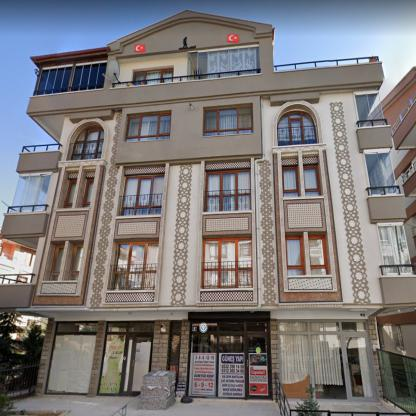door: (342, 334, 376, 400), (121, 333, 152, 394), (245, 334, 271, 398)
window: (277, 320, 367, 400), (98, 320, 155, 394), (46, 323, 97, 393), (203, 238, 252, 288), (35, 62, 105, 94), (198, 44, 260, 80), (111, 243, 158, 290), (204, 170, 251, 211), (120, 175, 164, 215), (378, 223, 412, 273), (364, 148, 398, 195), (10, 173, 50, 212), (204, 105, 252, 135), (278, 110, 318, 145), (125, 113, 170, 142), (353, 89, 384, 126), (71, 126, 104, 158), (309, 236, 328, 274), (286, 236, 304, 276), (282, 166, 299, 198), (304, 165, 321, 197), (48, 244, 63, 280), (68, 244, 82, 280), (134, 68, 172, 80), (63, 178, 76, 209), (82, 178, 93, 207)
